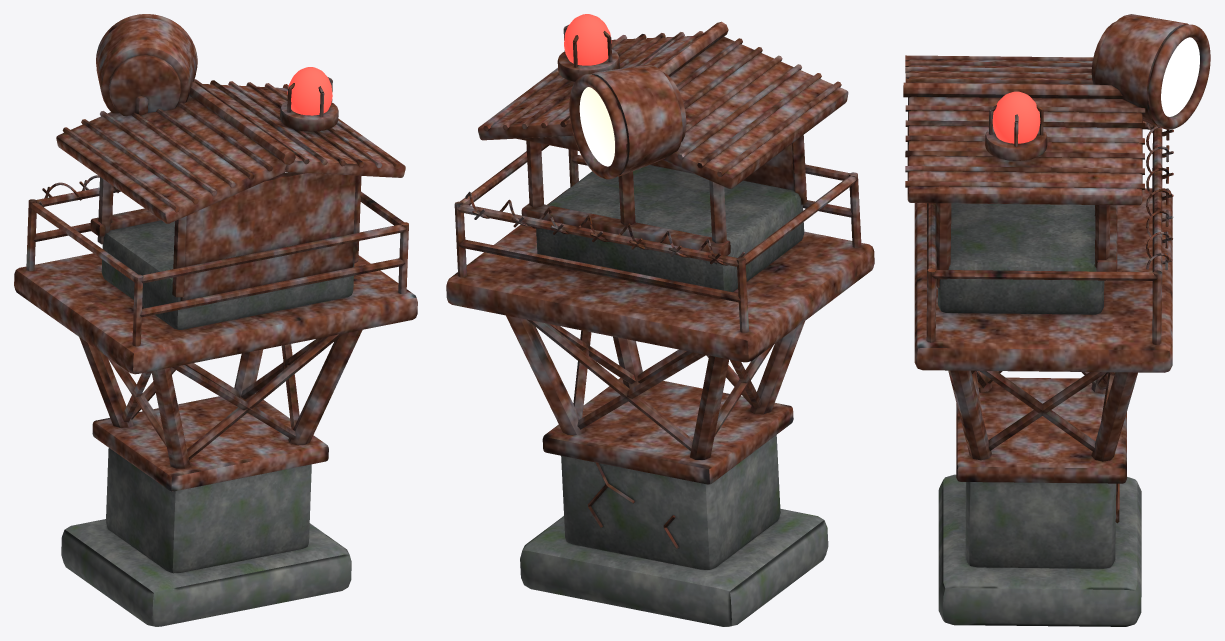
The picture shows the model from 3 angles, left to right: view 1: azimuth 30°, elevation 25°; view 2: azimuth 150°, elevation 25°; view 3: azimuth 270°, elevation 25°; orthographic projection. The views are drawn at different scales.
Parts seen in each view (by area): view 1: Ink_shadows_rust_and_scuffed_steel, Chipped_concrete_and_moss, anim_glow_Red_alarm_glass_0; view 2: Ink_shadows_rust_and_scuffed_steel, Chipped_concrete_and_moss, glow_Warm_searchlight_lens, anim_glow_Red_alarm_glass_0; view 3: Ink_shadows_rust_and_scuffed_steel, Chipped_concrete_and_moss, glow_Warm_searchlight_lens, anim_glow_Red_alarm_glass_0.
Boxes of the visible parts, x1=… form: Ink_shadows_rust_and_scuffed_steel: x1=14, y1=14, x2=417, y2=491; Chipped_concrete_and_moss: x1=61, y1=220, x2=354, y2=626; anim_glow_Red_alarm_glass_0: x1=287, y1=67, x2=332, y2=115; Ink_shadows_rust_and_scuffed_steel: x1=446, y1=21, x2=874, y2=548; Chipped_concrete_and_moss: x1=520, y1=165, x2=828, y2=626; glow_Warm_searchlight_lens: x1=579, y1=87, x2=614, y2=166; anim_glow_Red_alarm_glass_0: x1=564, y1=14, x2=611, y2=65; Ink_shadows_rust_and_scuffed_steel: x1=903, y1=14, x2=1210, y2=523; Chipped_concrete_and_moss: x1=938, y1=203, x2=1141, y2=626; glow_Warm_searchlight_lens: x1=1161, y1=37, x2=1199, y2=116; anim_glow_Red_alarm_glass_0: x1=992, y1=91, x2=1040, y2=143.
Bounding box in the file's own units: 1.54 × 2.65 × 1.33.
4 materials, 2 textured.
